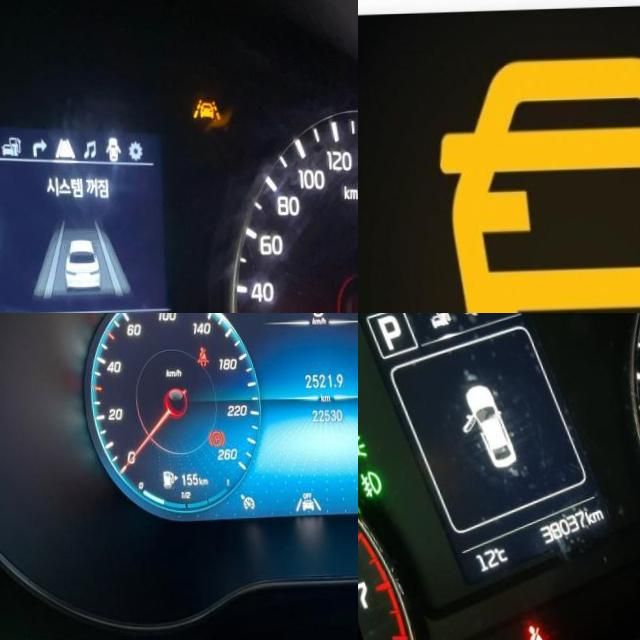FrontFogLight: (358, 466, 378, 498)
LaneCenteringOff: (185, 98, 216, 123), (285, 498, 312, 513)
